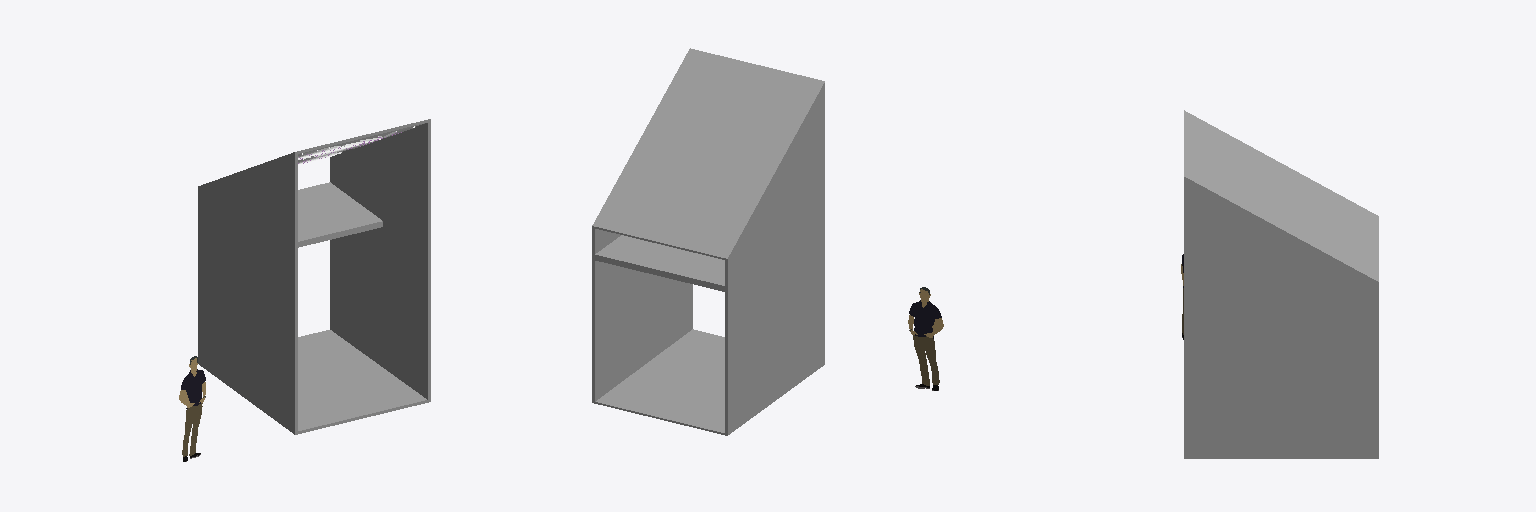
File: ArtCabin.obj
3 views of the same model, side by side, from view 1: azimuth 30°, elevation 25°; view 2: azimuth 150°, elevation 25°; view 3: azimuth 270°, elevation 25° (orthographic).
Visible parts, largest first — view 1: Mesh41 Model, Mesh40 Chris1 Model; view 2: Mesh41 Model, Mesh40 Chris1 Model; view 3: Mesh41 Model.
Part boxes in pixels (left/top/right/bottom): Mesh41 Model: left=198, top=119, right=430, bottom=434; Mesh40 Chris1 Model: left=179, top=356, right=205, bottom=461; Mesh41 Model: left=592, top=48, right=824, bottom=435; Mesh40 Chris1 Model: left=908, top=287, right=943, bottom=390; Mesh41 Model: left=1184, top=110, right=1378, bottom=458.
Bounding box in the file's own units: 179 × 192 × 122.